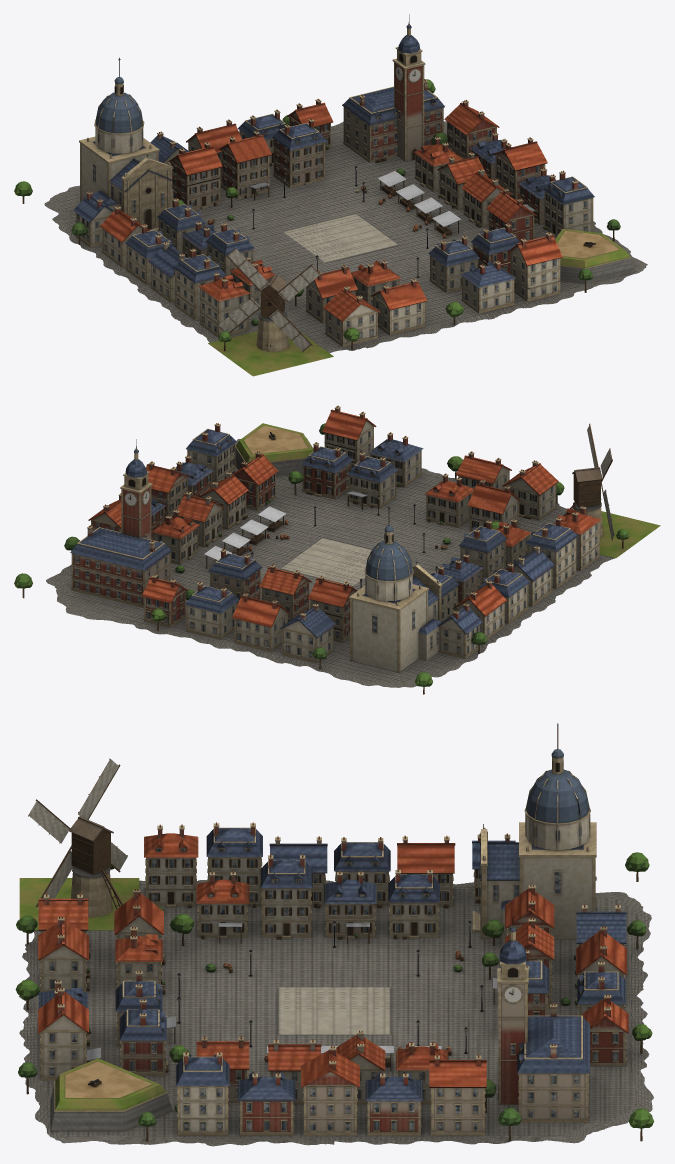
Rendered from gunpowder-town-big-a.glb.
3 views of the same model, one above another, from view 1: azimuth 30°, elevation 25°; view 2: azimuth 150°, elevation 25°; view 3: azimuth 270°, elevation 25° (orthographic). The views are drawn at different scales.
Parts seen in each view (by area): view 1: LOD0; view 2: LOD0; view 3: LOD0.
Part boxes in pixels (x1,y1,x2,y2): LOD0: (14,14,647,376); LOD0: (14,405,660,694); LOD0: (15,723,654,1146).
Size of what is drawn, in the model's own units: 8.05 by 2.8 by 8.12.
Materials: 3 (3 with a texture image).
